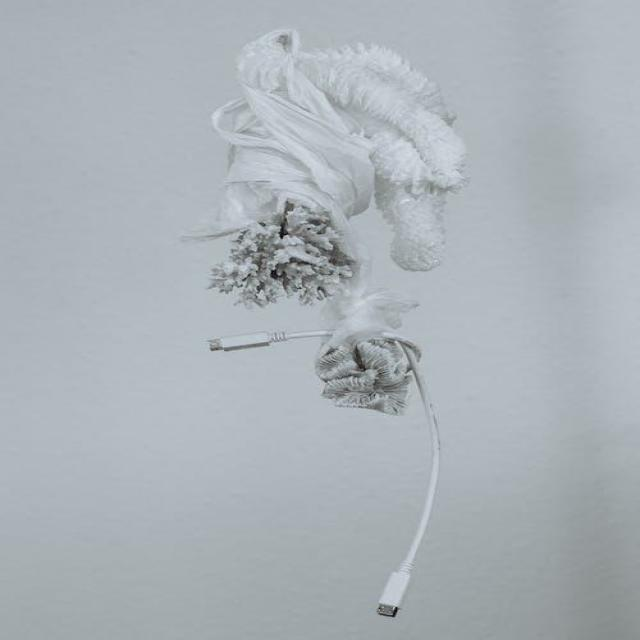trash: (200, 31, 478, 621)
